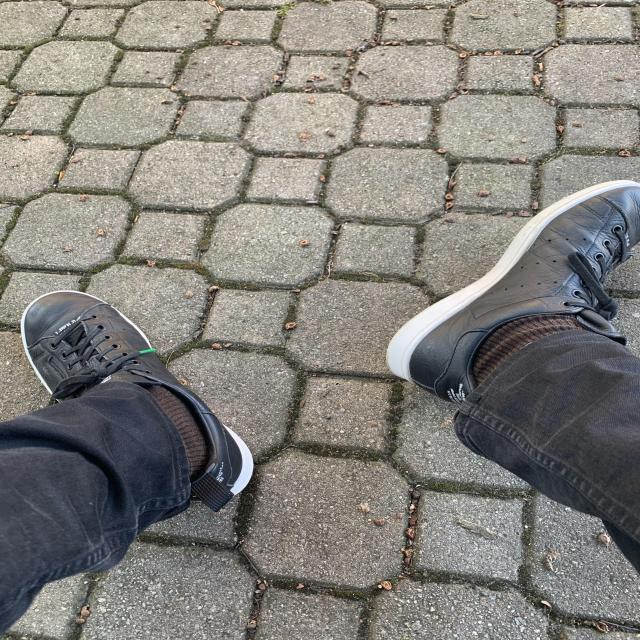shoe: (7, 220, 314, 542), (366, 134, 640, 452)
